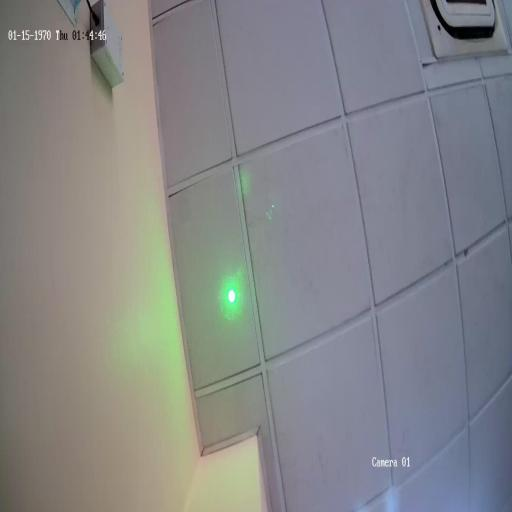laser: (220, 274, 244, 315)
